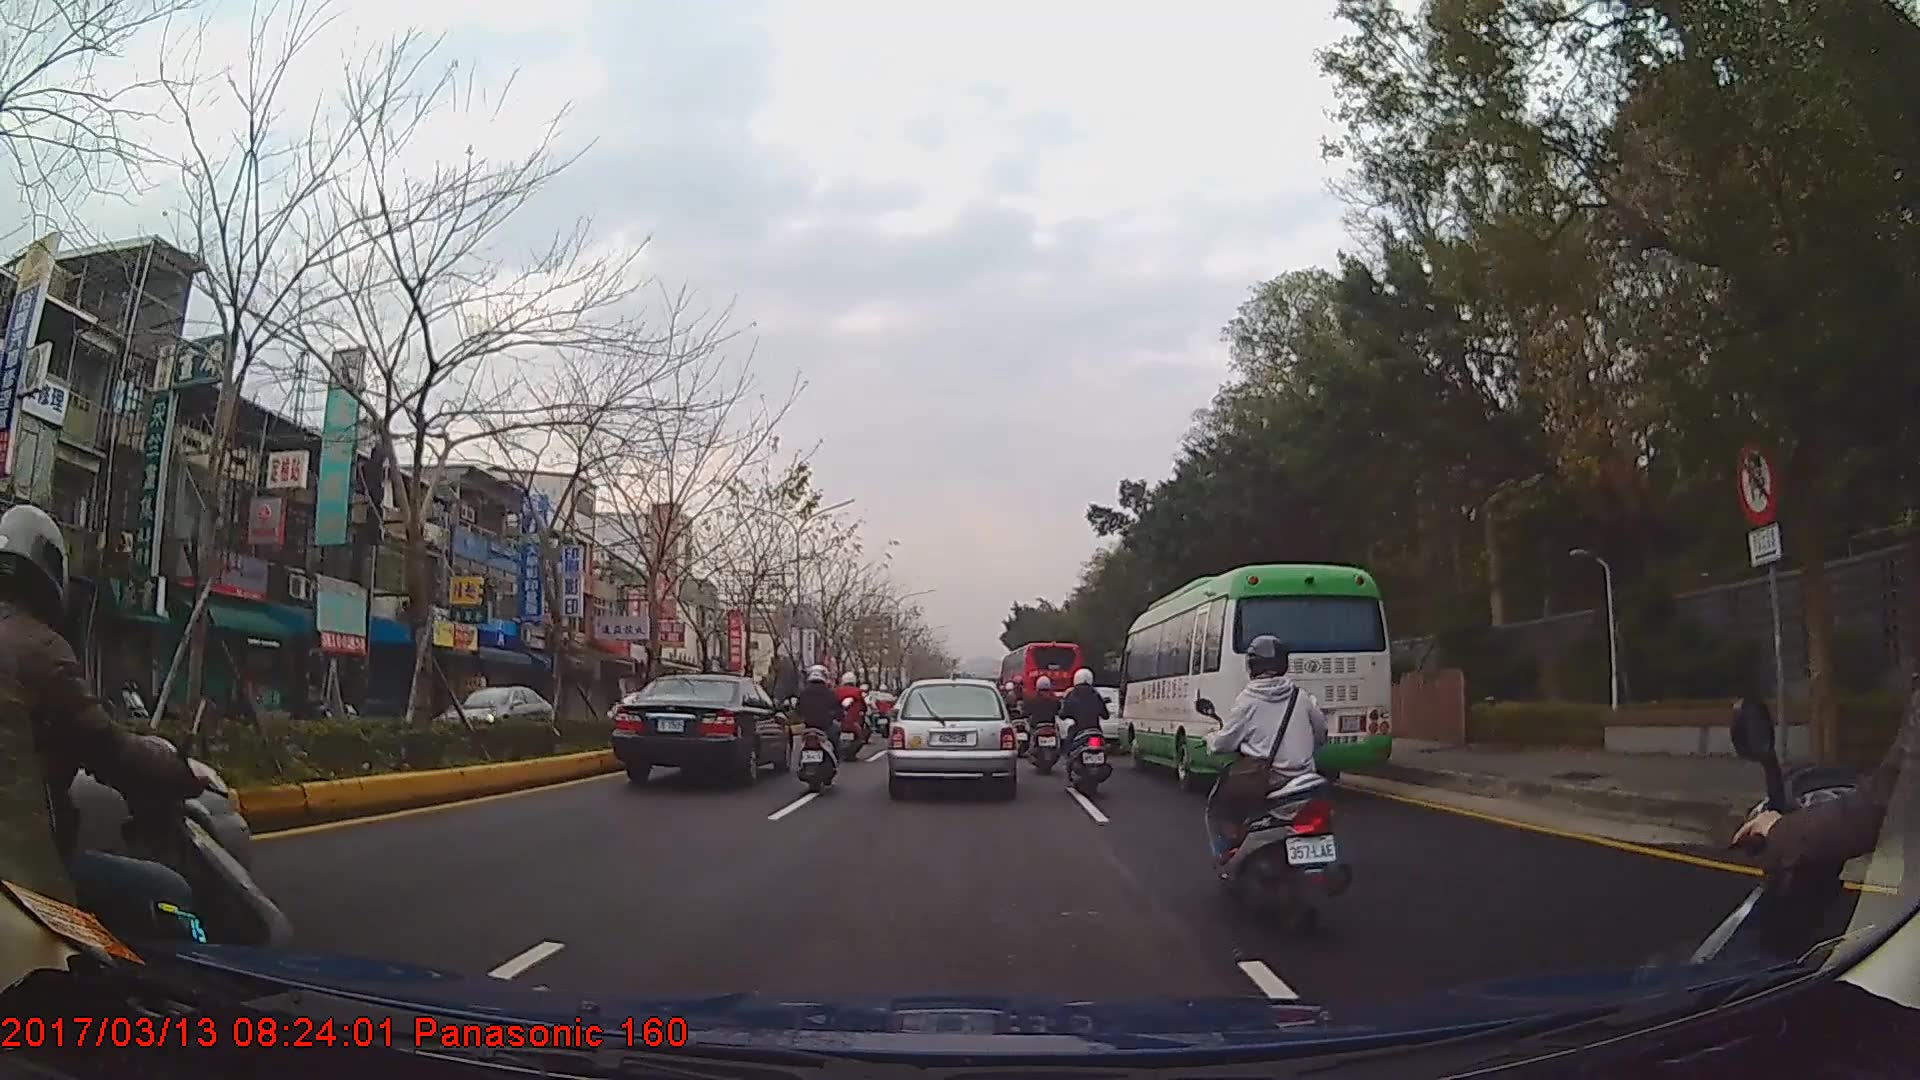rider: (1, 503, 301, 1027), (1202, 636, 1350, 933), (794, 665, 850, 797), (1061, 669, 1112, 796), (1025, 674, 1065, 776), (835, 673, 870, 760), (1007, 676, 1031, 756), (853, 687, 879, 743), (874, 683, 896, 728)
vehicle: (1117, 562, 1394, 796), (608, 673, 794, 786), (886, 678, 1016, 799), (998, 639, 1082, 735), (437, 683, 552, 748)
